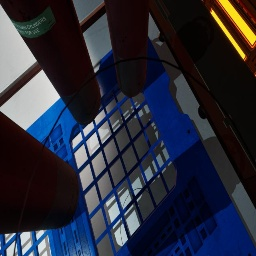NitrogenTank ,: (13, 18, 256, 256), (0, 0, 101, 125), (0, 111, 80, 235), (104, 0, 150, 98)
